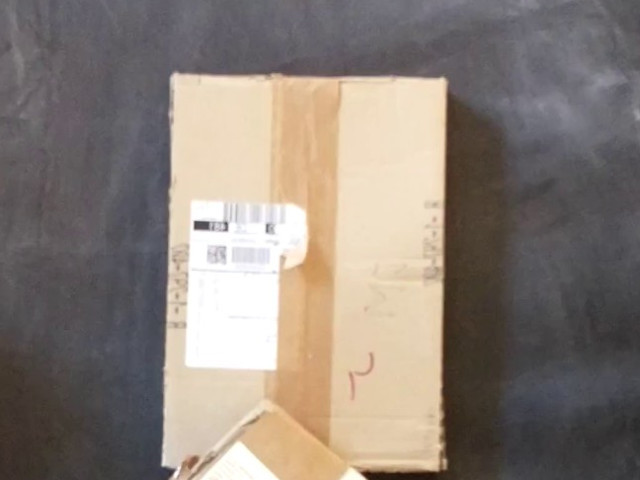cardboard: (170, 77, 444, 465)
